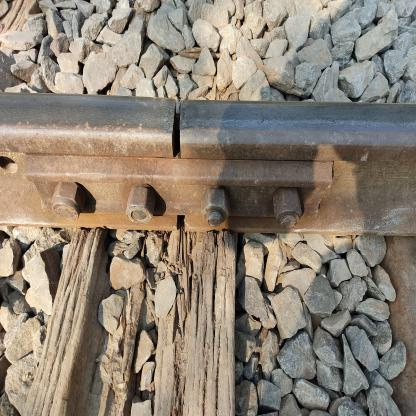Non Defective: (12, 153, 332, 256), (140, 86, 216, 180)
